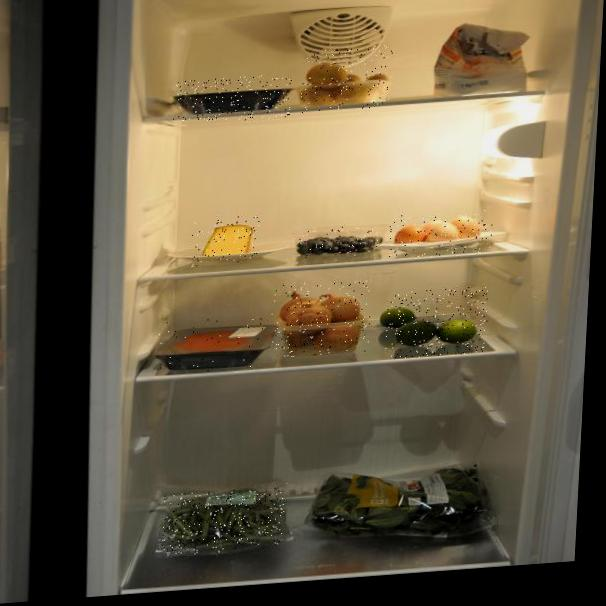cheese: (189, 215, 260, 267)
eggs: (388, 209, 493, 260)
green beans: (161, 486, 286, 557)
lime: (385, 286, 489, 360)
meat: (155, 314, 275, 378), (173, 73, 292, 126)
olive: (298, 224, 379, 260)
onion: (269, 278, 372, 359)
potatoes: (300, 45, 393, 113)
